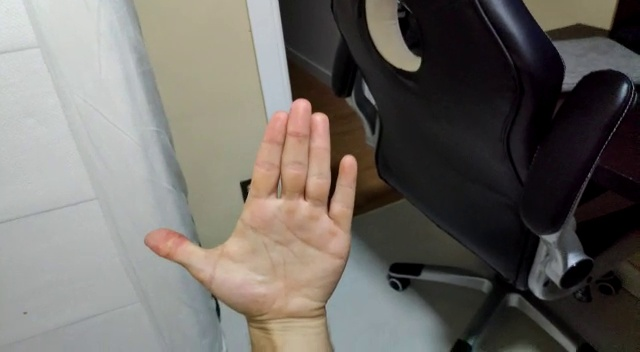Palm: (142, 96, 362, 329)
